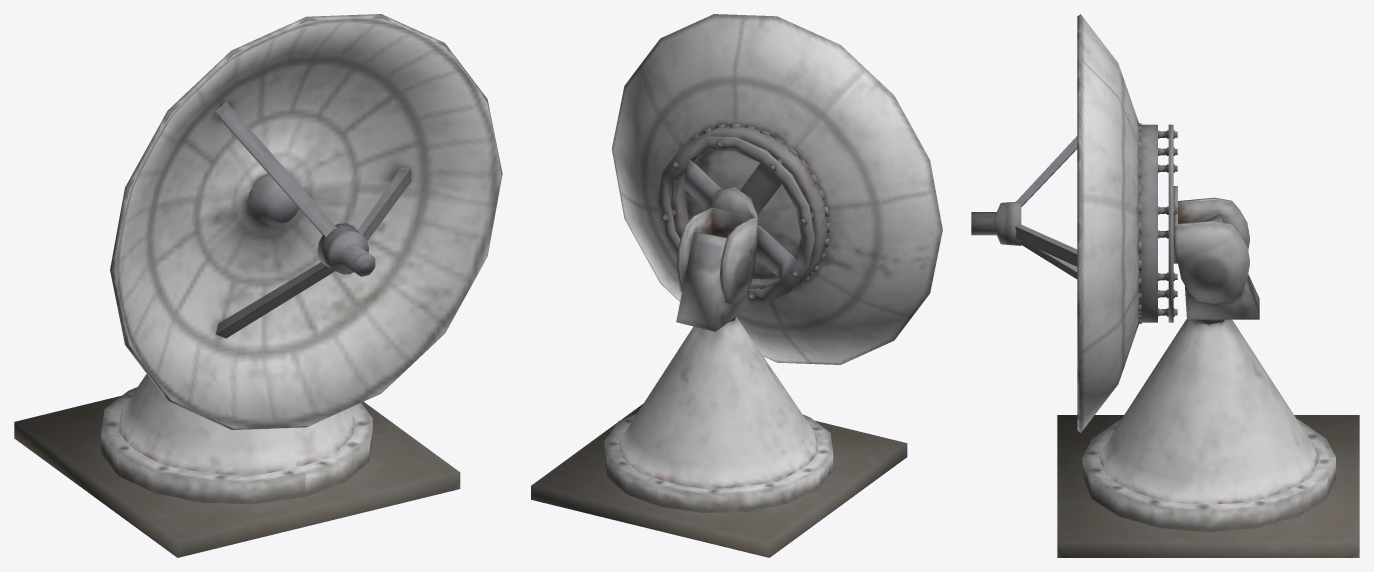
Rendered from dish.glb.
The picture shows the model from 3 angles, left to right: view 1: azimuth 30°, elevation 25°; view 2: azimuth 150°, elevation 25°; view 3: azimuth 270°, elevation 25°; orthographic projection. The views are drawn at different scales.
Visible parts, largest first — view 1: Radar; view 2: Radar; view 3: Radar.
Boxes of the visible parts, box(x1,y1,x2,y2) form: Radar: box(14, 14, 502, 557); Radar: box(531, 14, 942, 557); Radar: box(971, 14, 1359, 557).
Size of the model in its own units: 1.3 by 1.57 by 1.2.
Materials: 1 (1 with a texture image).
